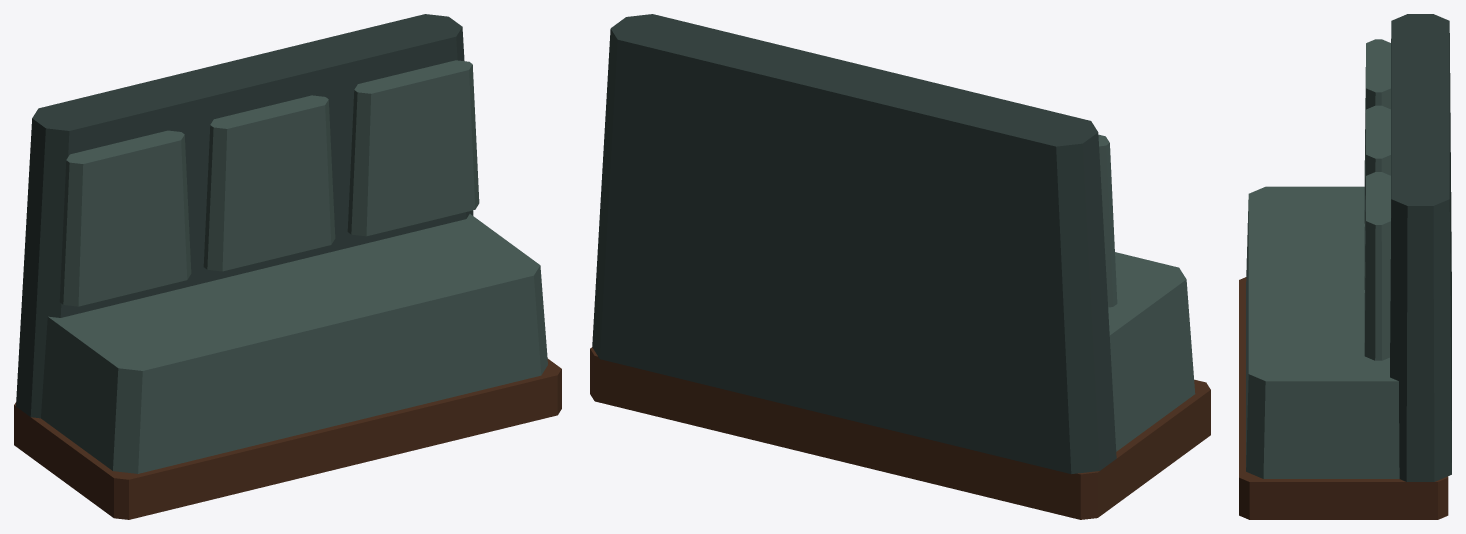
The model's file is sofa_booth.obj.
The picture shows the model from 3 angles, left to right: view 1: azimuth 30°, elevation 25°; view 2: azimuth 150°, elevation 25°; view 3: azimuth 270°, elevation 25°; orthographic projection. The views are drawn at different scales.
Parts seen in each view (by area): view 1: sofa_booth; view 2: sofa_booth; view 3: sofa_booth.
Part boxes in pixels (left/top/right/bottom): sofa_booth: left=14, top=14, right=561, bottom=519; sofa_booth: left=590, top=14, right=1210, bottom=519; sofa_booth: left=1239, top=14, right=1451, bottom=519.
Size of the model in its own units: 1.4 by 0.97 by 0.61.
